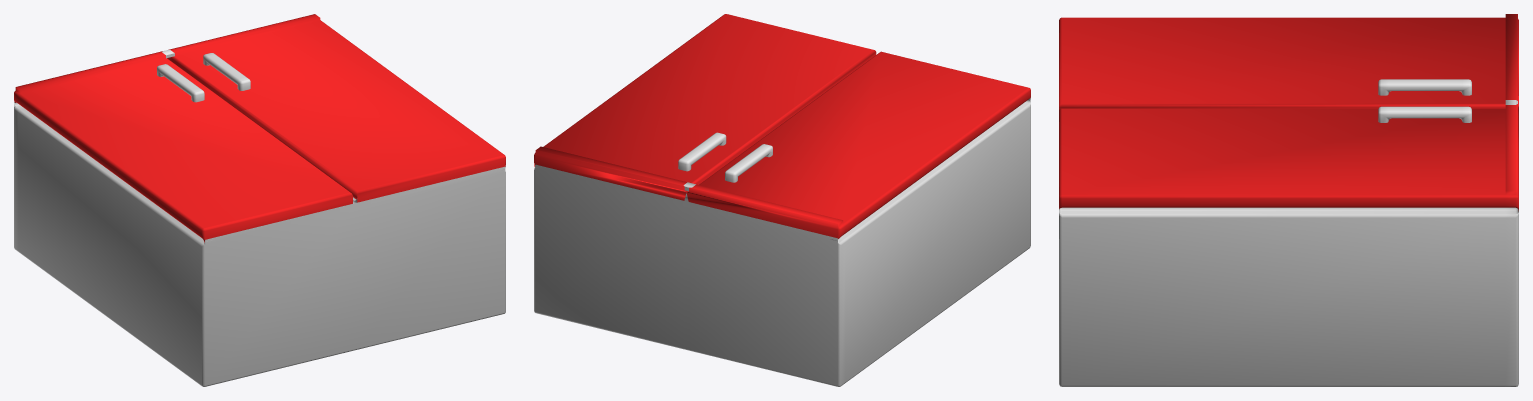
3 views of the same model, side by side, from view 1: azimuth 30°, elevation 25°; view 2: azimuth 150°, elevation 25°; view 3: azimuth 270°, elevation 25° (orthographic). The views are drawn at different scales.
Parts seen in each view (by area): view 1: Cube.002; view 2: Cube.002; view 3: Cube.002.
Part boxes in pixels (<box>): Cube.002: <box>14,14,505,386</box>; Cube.002: <box>534,14,1030,386</box>; Cube.002: <box>1059,14,1518,386</box>.
Size of the model in its own units: 60 by 31.72 by 65.
